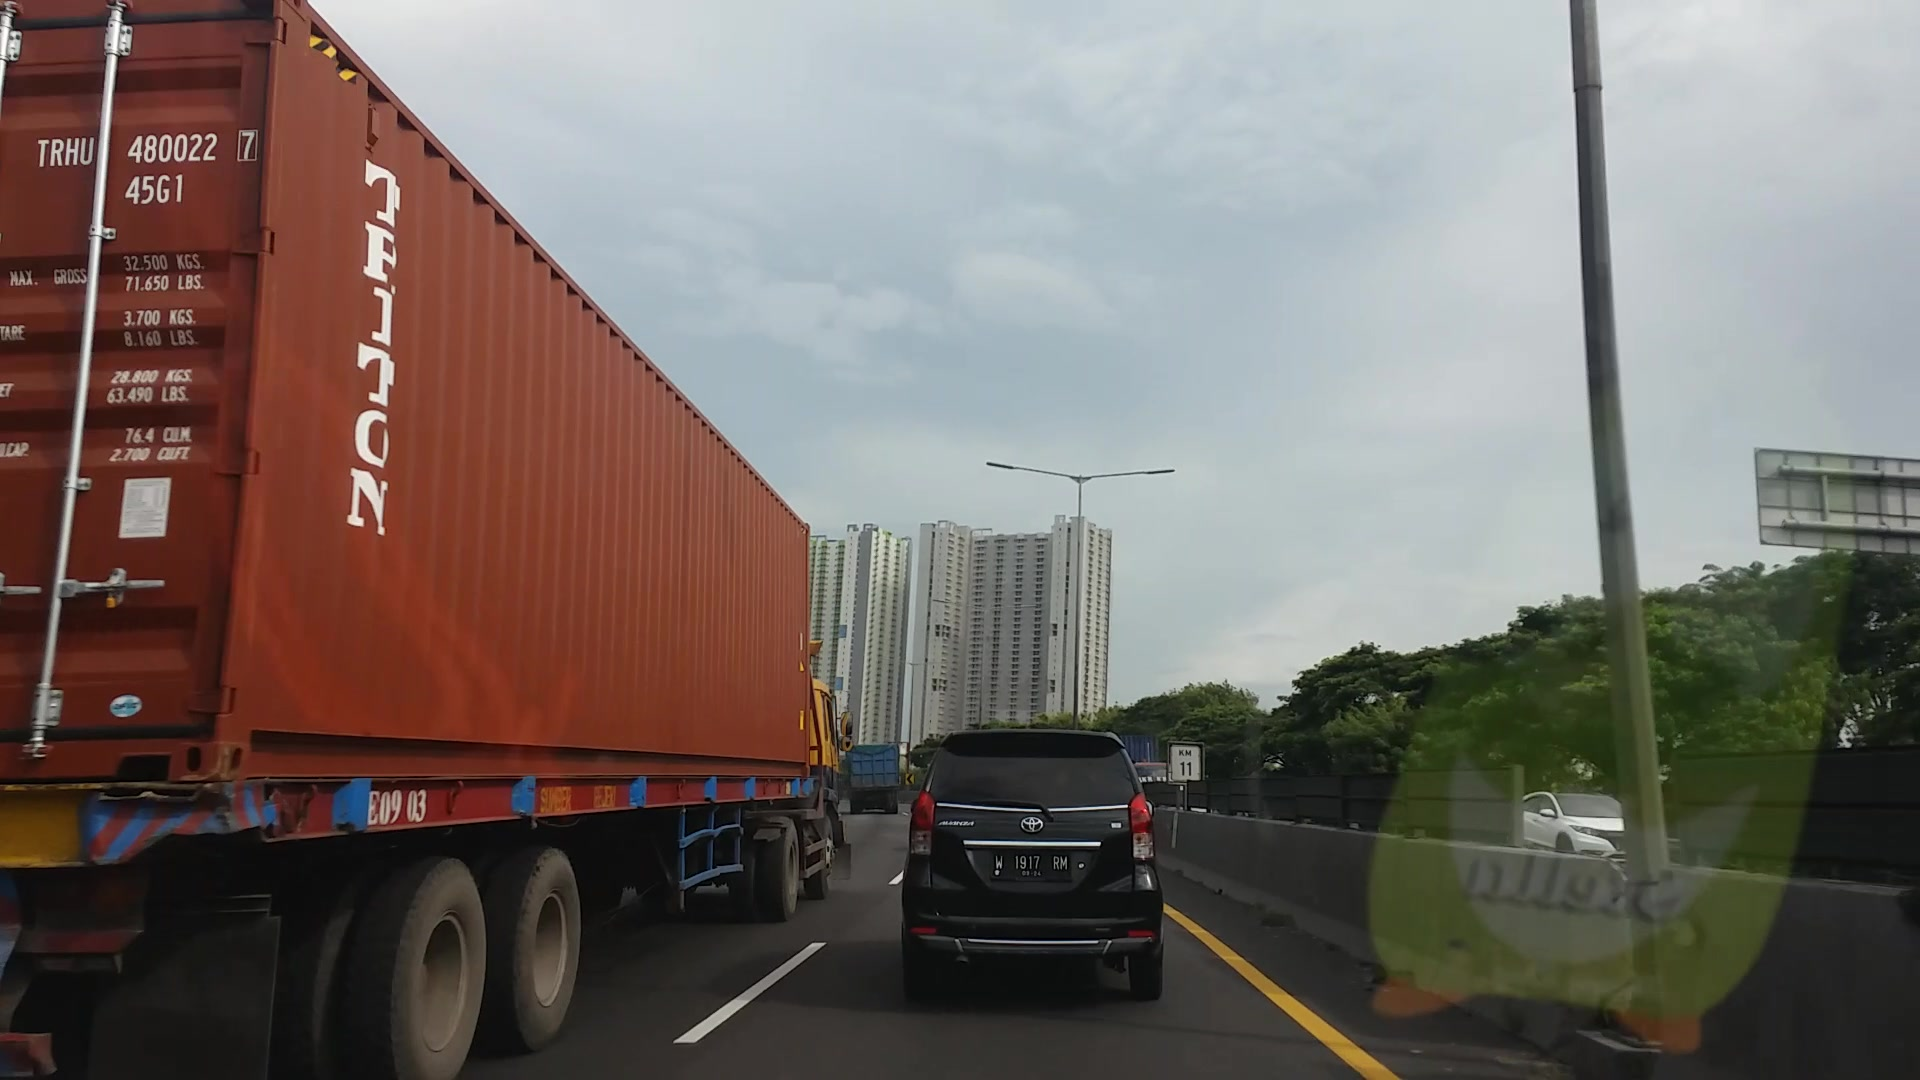plate_positive: (992, 849, 1071, 884)
